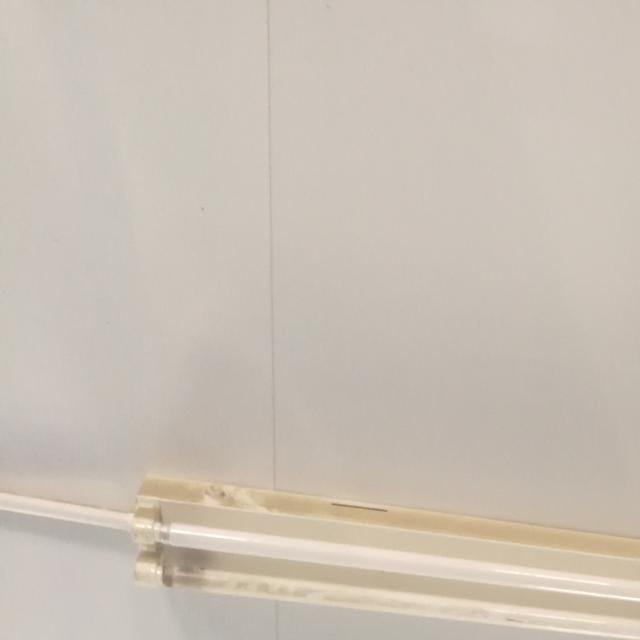fluorescent tube: (117, 460, 640, 640)
